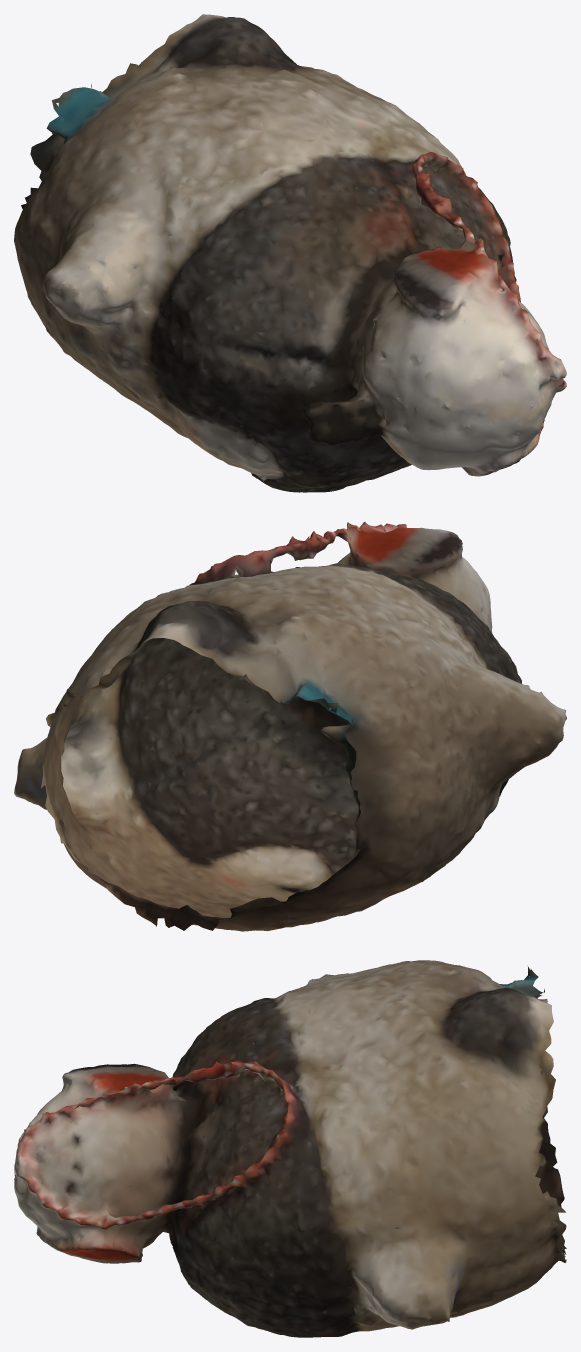
3 views of the same model, one above another, from view 1: azimuth 30°, elevation 25°; view 2: azimuth 150°, elevation 25°; view 3: azimuth 270°, elevation 25° (orthographic). The views are drawn at different scales.
Visible parts, largest first — view 1: Group_Global; view 2: Group_Global; view 3: Group_Global.
Boxes of the visible parts, <box> form: Group_Global: <box>14,14,566,492</box>; Group_Global: <box>14,521,566,931</box>; Group_Global: <box>14,960,566,1337</box>.
Size of the model in its own units: 7.07 by 5.01 by 7.64.
